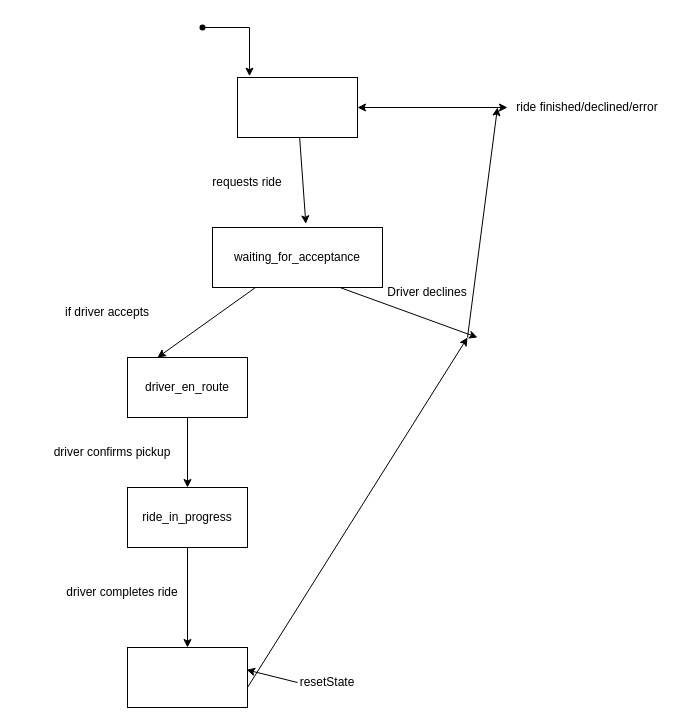
The diagram is 684 pixels wide and 725 high, and some of its shapes have lost their labels. Each missing label, with the centre of its shape:
completed: the point at 187,677
IDLE: the point at 297,107
